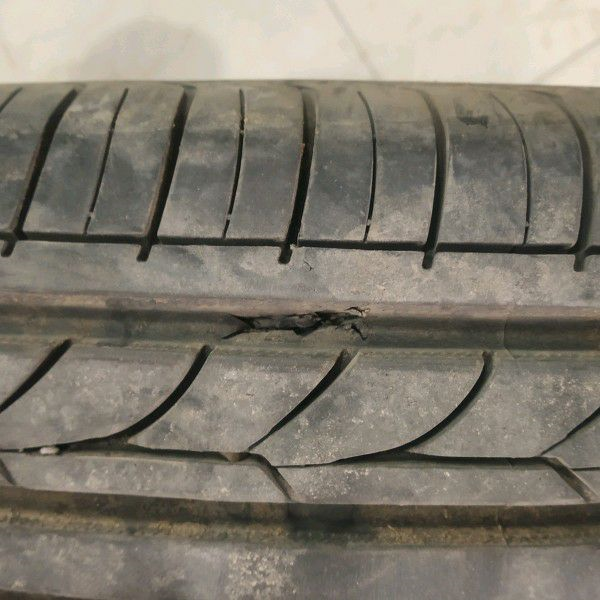tr: (224, 304, 370, 344)
